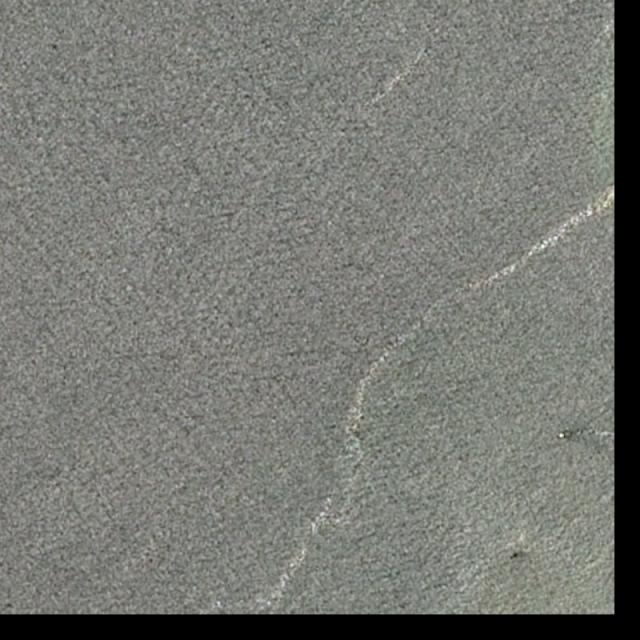ship: (557, 431, 567, 440)
